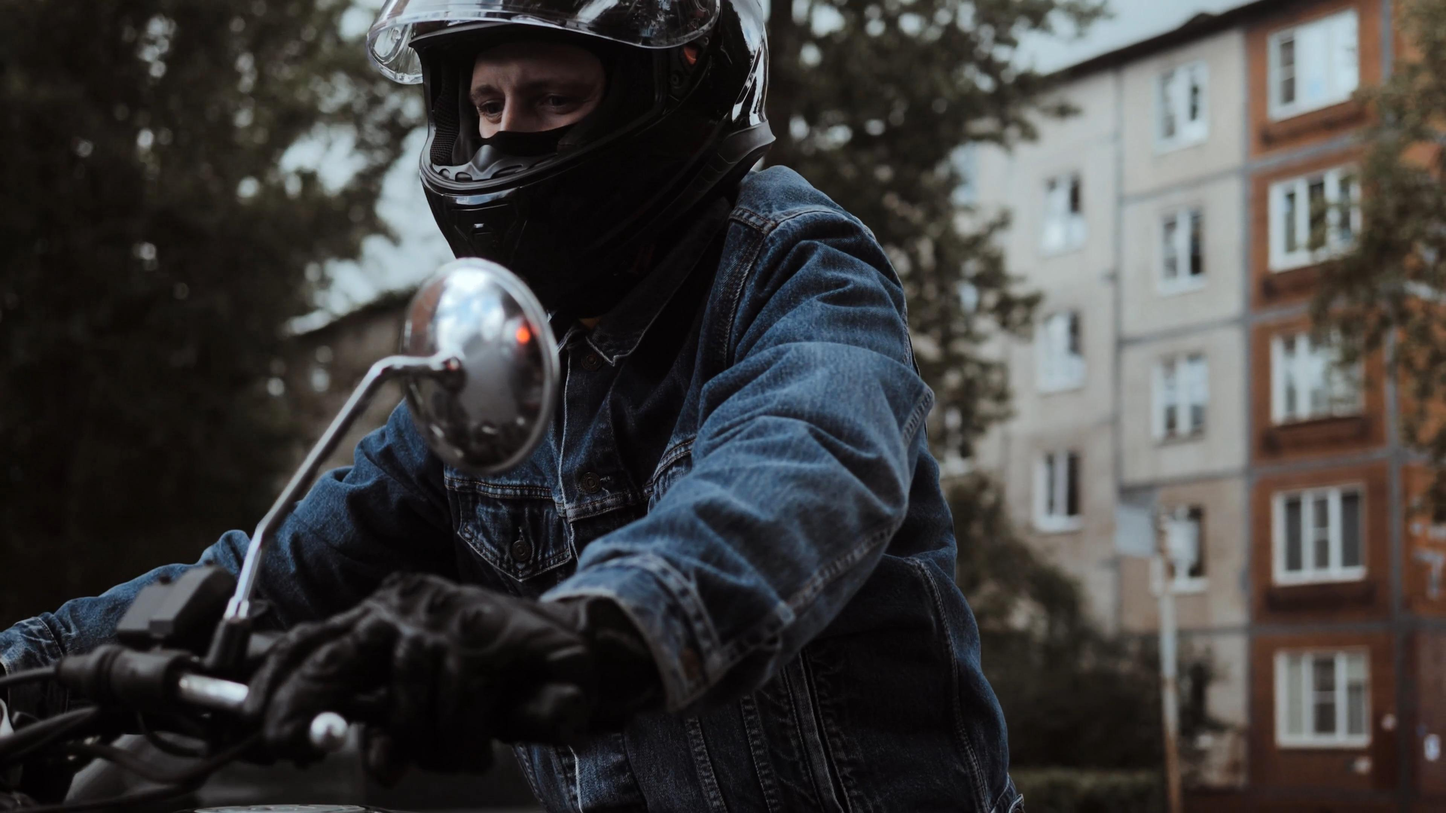driver: (0, 0, 1025, 813)
helmet: (367, 0, 778, 318)
